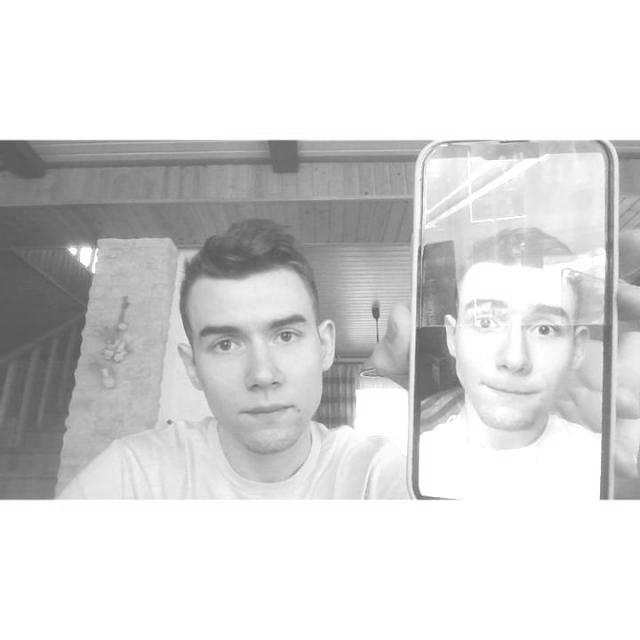fake: (413, 141, 619, 500)
real: (183, 272, 323, 451)
